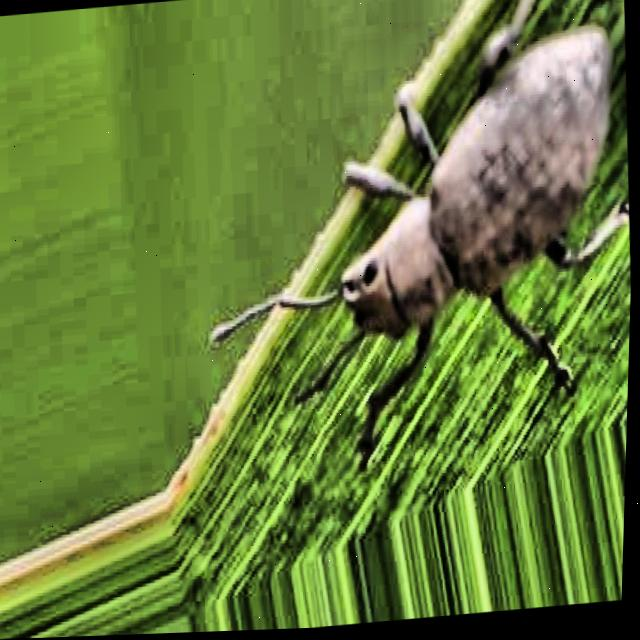Stink bug: (256, 0, 640, 448)
